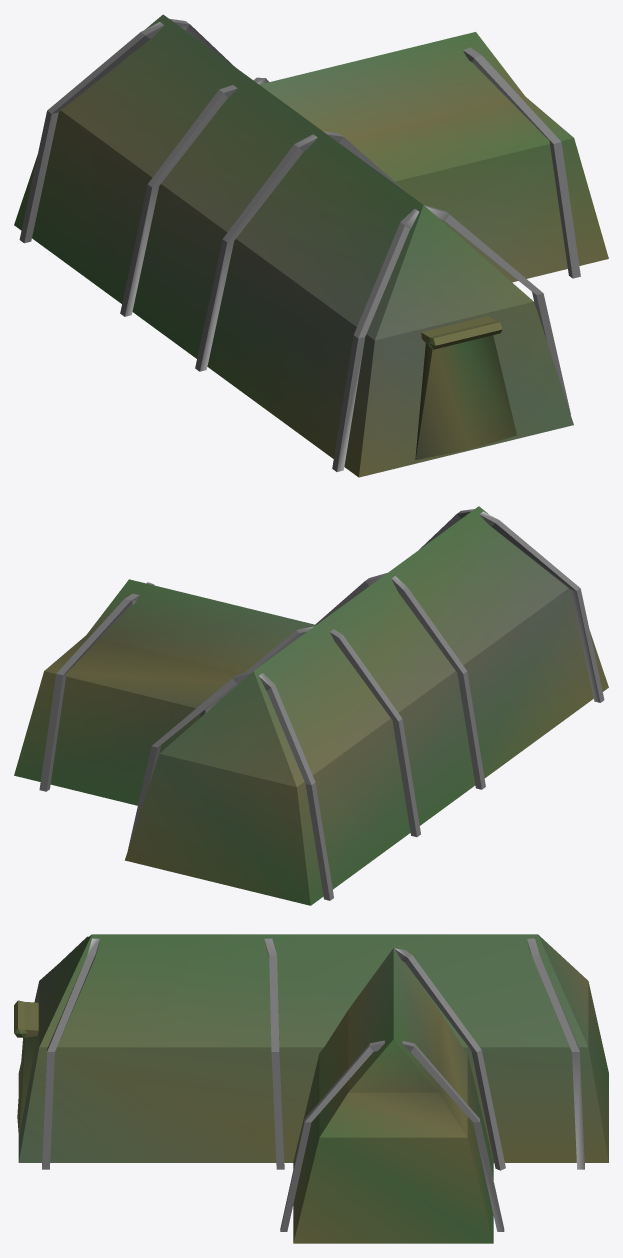
Rendered from BarracaLonga.fbx.
The picture shows the model from 3 angles, top to bottom: view 1: azimuth 30°, elevation 25°; view 2: azimuth 150°, elevation 25°; view 3: azimuth 270°, elevation 25°; orthographic projection. The views are drawn at different scales.
Visible parts, largest first — view 1: LOD_0; view 2: LOD_0; view 3: LOD_0.
Boxes of the visible parts, left/top/right/bottom form: LOD_0: left=14, top=14, right=608, bottom=477; LOD_0: left=14, top=506, right=608, bottom=905; LOD_0: left=14, top=934, right=608, bottom=1243.
Size of what is drawn, in the model's own units: 759 by 376 by 1090.
